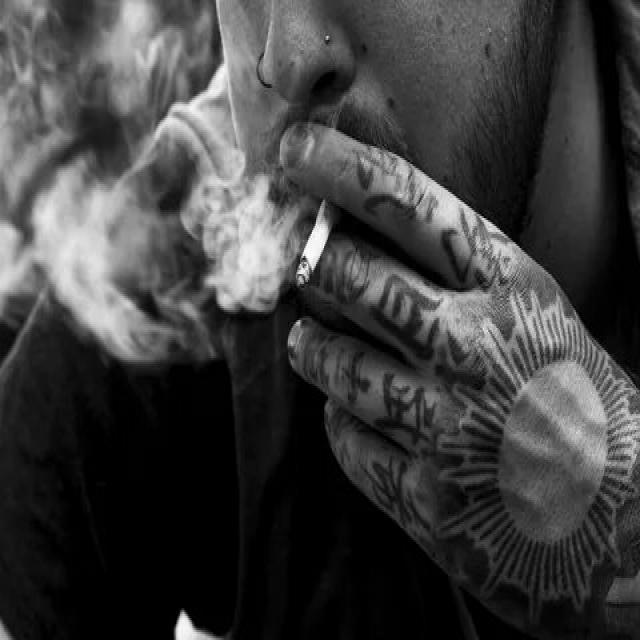cigarette: (293, 188, 344, 300)
